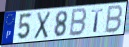5: (17, 12, 33, 42)
8: (54, 10, 69, 38)
B: (68, 7, 89, 37), (104, 4, 124, 34)
T: (91, 7, 105, 34)
X: (33, 10, 52, 40)
